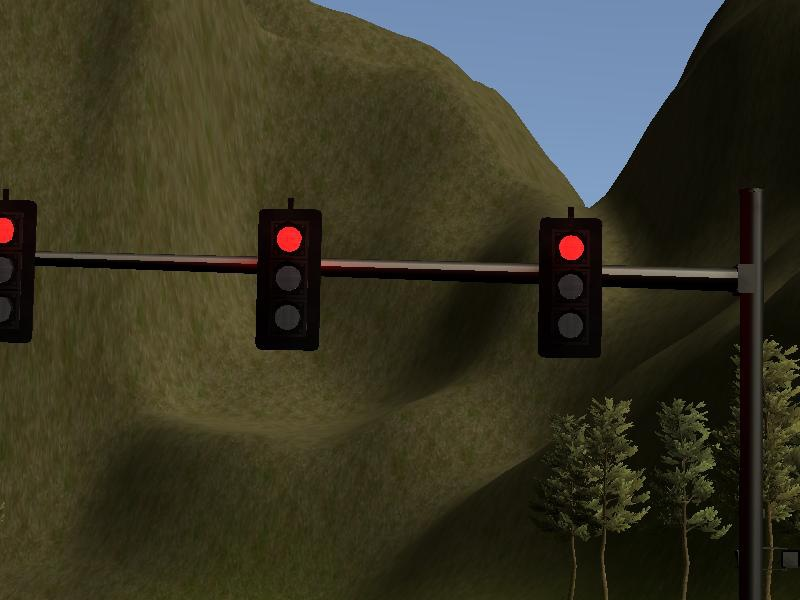Red: (250, 206, 324, 352), (533, 214, 606, 360), (1, 196, 43, 345)
